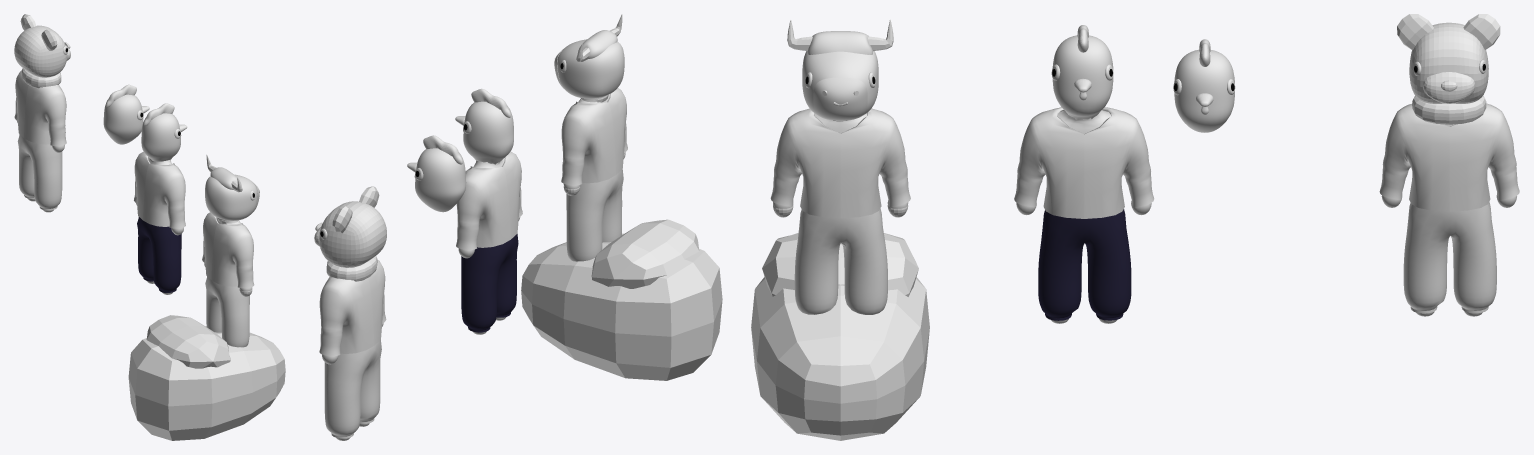
Rendered from brenda.fbx.
3 views of the same model, side by side, from view 1: azimuth 30°, elevation 25°; view 2: azimuth 150°, elevation 25°; view 3: azimuth 270°, elevation 25° (orthographic). The views are drawn at different scales.
Parts seen in each view (by area): view 1: Cube.002, Plane.002, Plane.005, Plane.008, Plane.009, Plane.006, Plane.003, Cube, Cube.013, Cube.005, Cube.009, Cube.015 (+2 smaller); view 2: Cube.002, Plane.002, Plane.005, Plane.008, Plane.009, Plane.006, Plane.003, Cube, Cube.013, Cube.005, Cube.009, Cube.015 (+3 smaller); view 3: Cube.002, Plane.005, Plane.002, Plane.008, Plane.009, Plane.006, Plane.003, Cube.005, Cube.013, Cube, Cube.009, Cube.003 (+5 smaller).
Boxes of the visible parts, <box> form: Cube.002: <box>128,315,285,440</box>; Plane.002: <box>202,212,254,288</box>; Plane.005: <box>134,152,185,228</box>; Plane.008: <box>14,71,66,146</box>; Plane.009: <box>17,134,62,210</box>; Plane.006: <box>137,217,181,292</box>; Plane.003: <box>205,276,249,347</box>; Cube: <box>205,167,257,220</box>; Cube.013: <box>14,25,67,77</box>; Cube.005: <box>136,113,183,294</box>; Cube.009: <box>103,94,143,144</box>; Cube.015: <box>21,68,61,88</box>; Cube.002: <box>521,219,722,380</box>; Plane.002: <box>561,88,627,185</box>; Plane.005: <box>456,151,522,249</box>; Plane.008: <box>319,259,386,356</box>; Plane.009: <box>324,340,381,438</box>; Plane.006: <box>461,234,518,332</box>; Plane.003: <box>566,169,623,261</box>; Cube: <box>557,30,624,98</box>; Cube.013: <box>319,201,386,267</box>; Cube.005: <box>458,101,520,334</box>; Cube.009: <box>415,148,466,212</box>; Cube.015: <box>326,256,377,281</box>; Cube.002: <box>751,233,929,440</box>; Plane.005: <box>1014,107,1154,218</box>; Plane.002: <box>770,108,910,218</box>; Plane.008: <box>1379,103,1519,211</box>; Plane.009: <box>1403,202,1496,313</box>; Plane.006: <box>1038,209,1131,320</box>; Plane.003: <box>794,208,887,314</box>; Cube.005: <box>1016,35,1151,323</box>; Cube.013: <box>1409,22,1488,103</box>; Cube: <box>802,31,878,115</box>; Cube.009: <box>1174,49,1234,132</box>; Cube.003: <box>813,77,867,120</box>.
Bounding box in the file's own units: 273 × 472 × 776.
